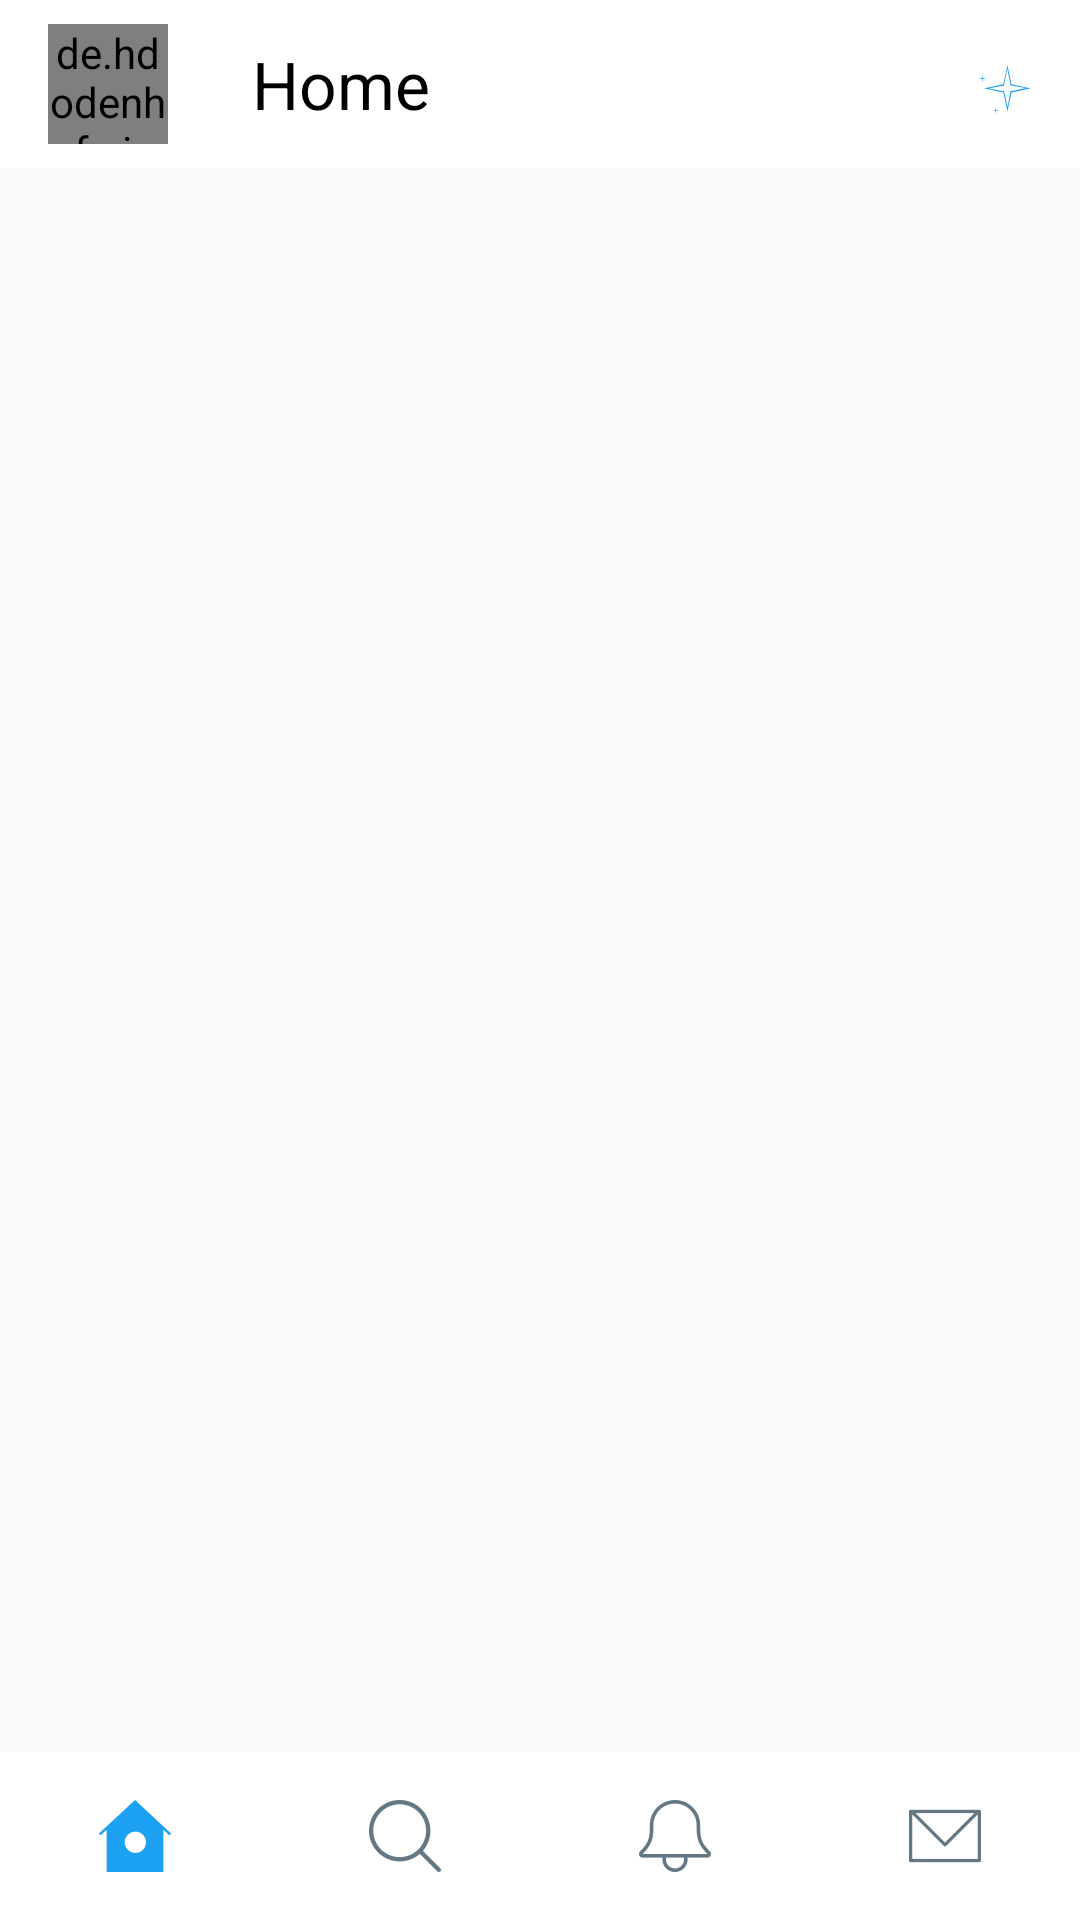

Named icons in this screenshot (1080 × 1920) and their bounding boxes, [x1, y1, x2, y2]:
home: [99, 1800, 171, 1872]
notifications: [639, 1800, 711, 1872]
search: [369, 1800, 441, 1872]
